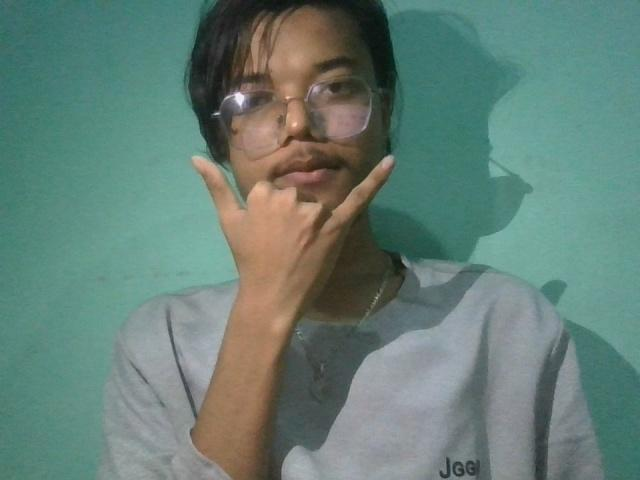Wrong: (159, 139, 417, 333)
